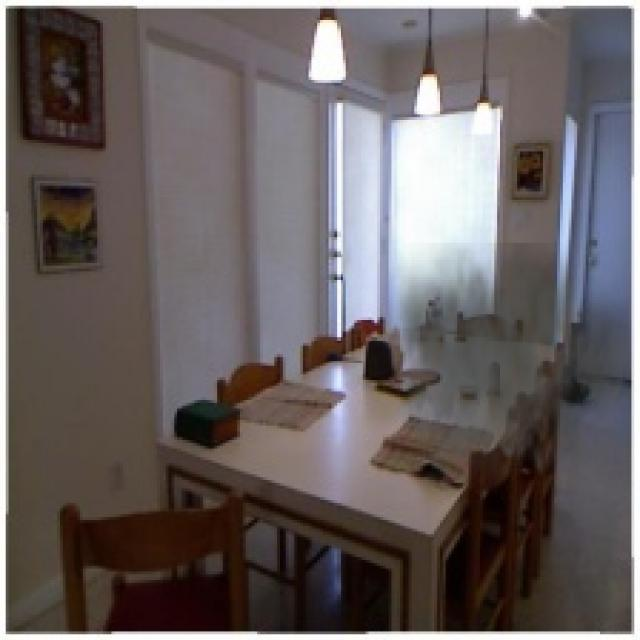Smoke: (381, 243, 628, 506)
